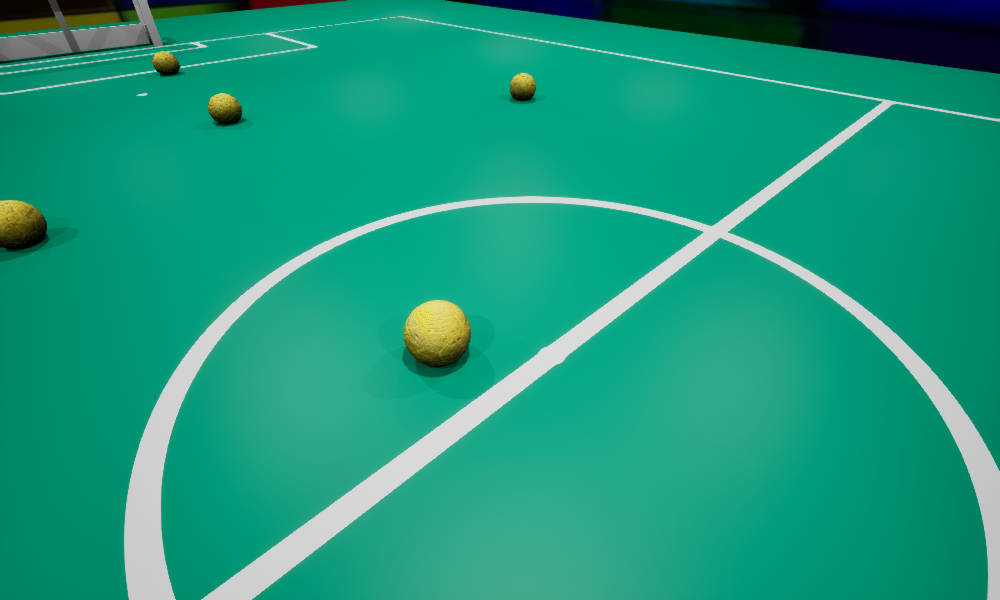b: (404, 300, 470, 366), (0, 200, 46, 248), (208, 93, 241, 123), (510, 73, 535, 100), (152, 51, 179, 74)
g: (0, 0, 162, 60)
